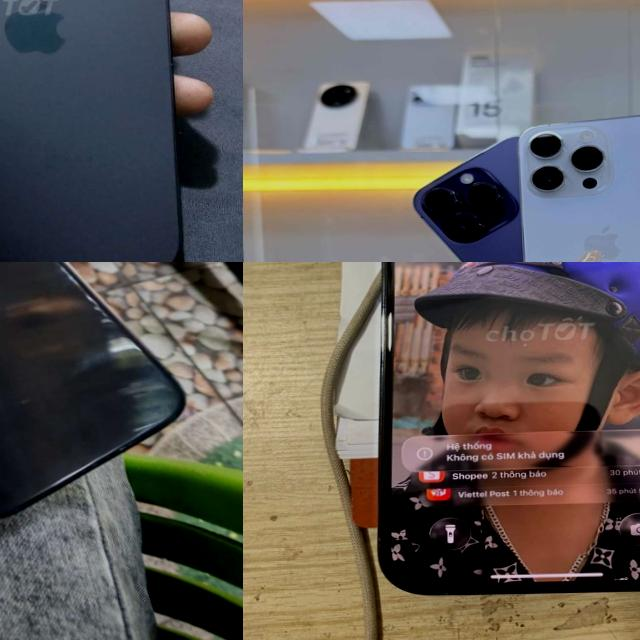gen_11: (0, 262, 189, 541)
gen_12_13: (366, 262, 640, 600)
gen_14: (0, 0, 204, 262), (515, 111, 640, 262)
